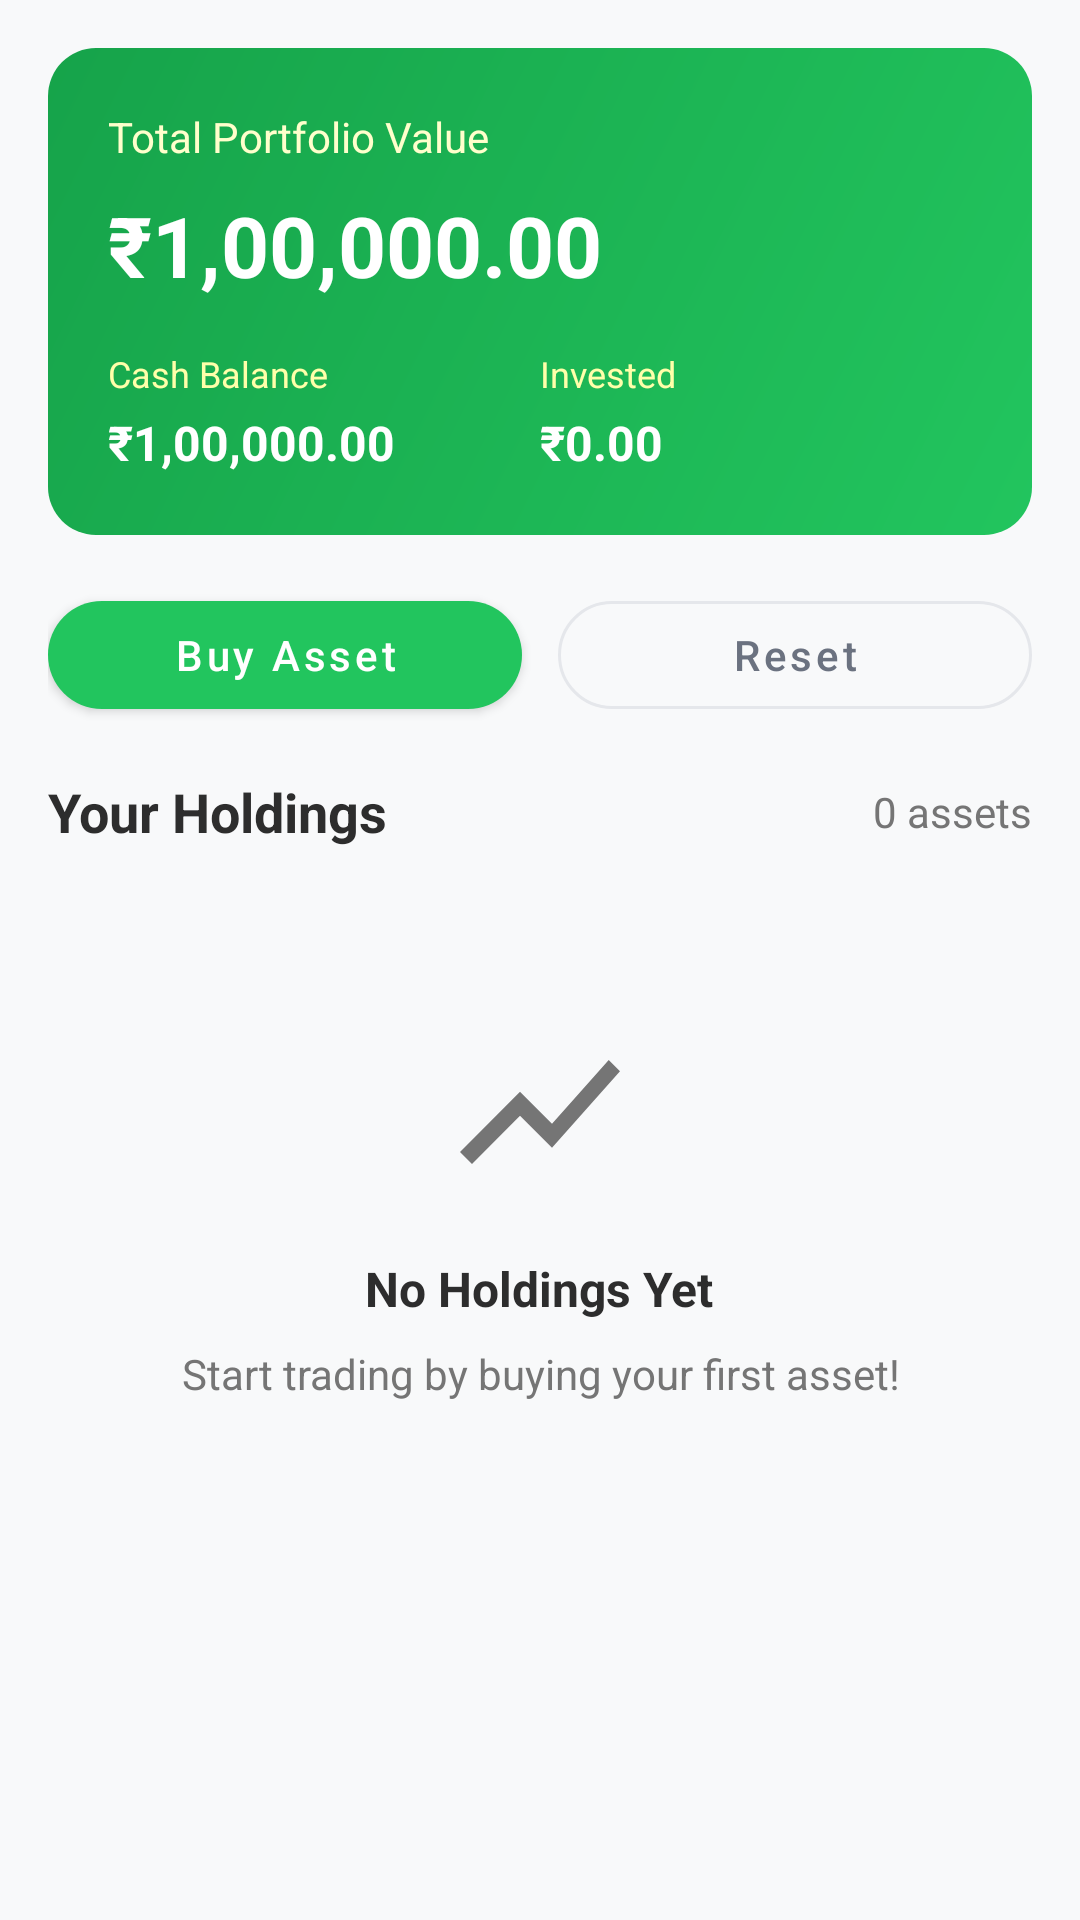

Named icons in this screenshot (1080x1920) and their bounding boxes, bbox=(x1, y1, x2, y2):
chart: bbox=(460, 1060, 620, 1164)
